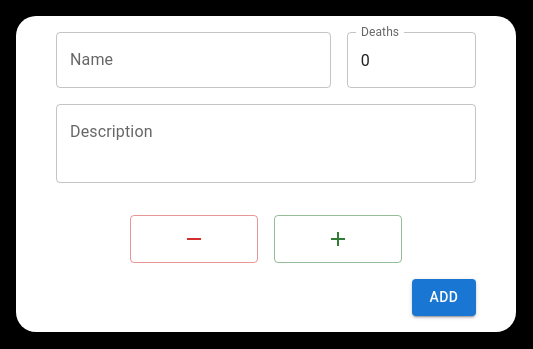
Test case: EntityForm descriptions › shows Clear when the description is the only field with a value
Type "A note with no boss selected yet." into the text box labelled "Description" at point(266, 144), box 70,120 -> 462,166
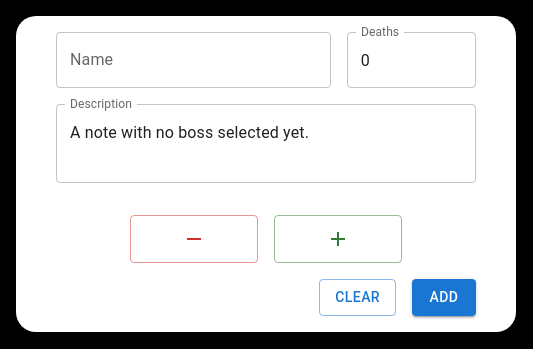
Click the button "Clear" at point(358, 297), box 319,279 -> 396,316
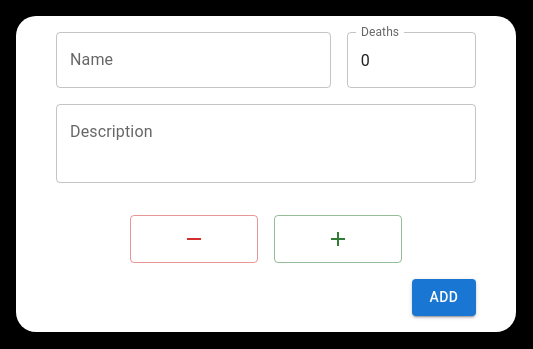
Result: the text box labelled "Description" is empty at 70,120 -> 462,166
